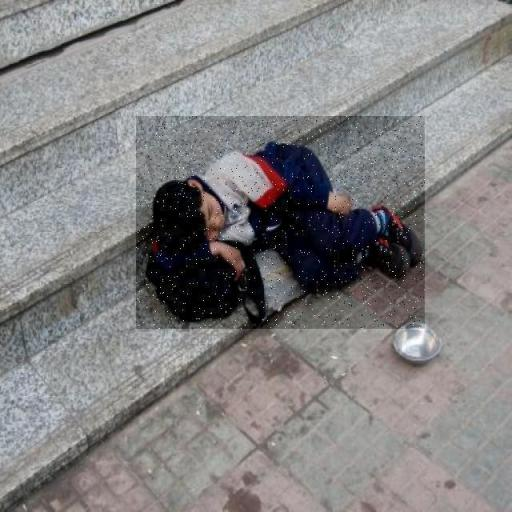Fall: (136, 116, 425, 329)
